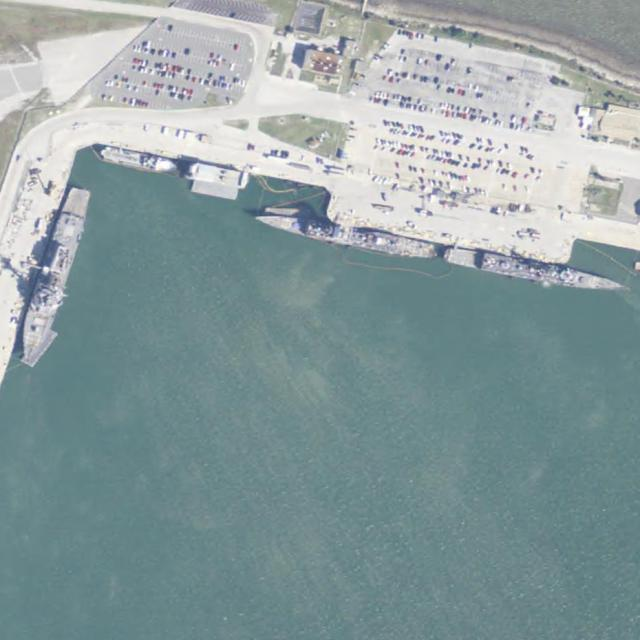Destroyer: (12, 182, 94, 370)
Frigate: (443, 242, 626, 297), (251, 209, 437, 261)
Other Ship: (95, 145, 180, 176)
